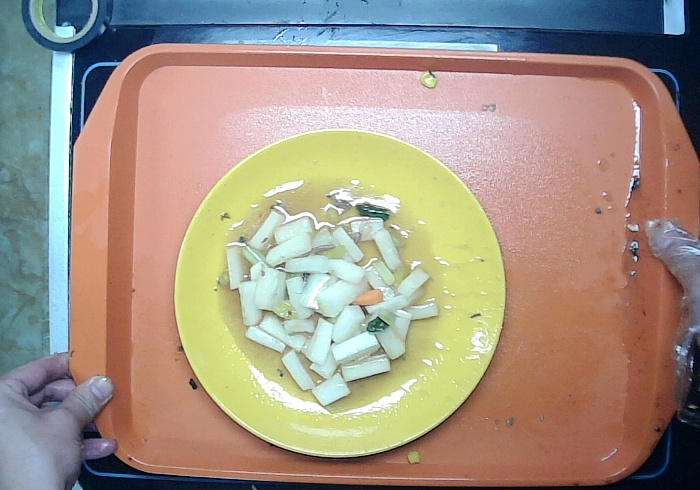HZYJPL-Huang_Se_Yuan_Pan: (164, 123, 504, 462)
